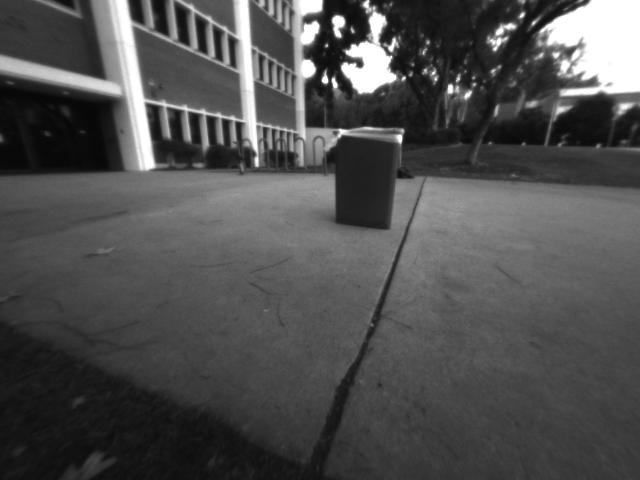trashcan_open: (332, 122, 402, 234)
